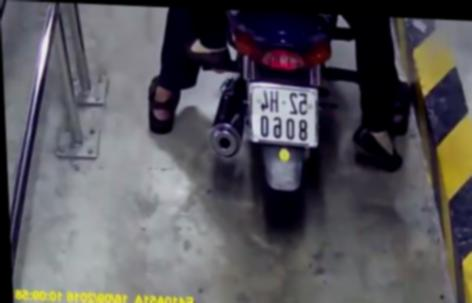License_Plate: (237, 83, 325, 150)
